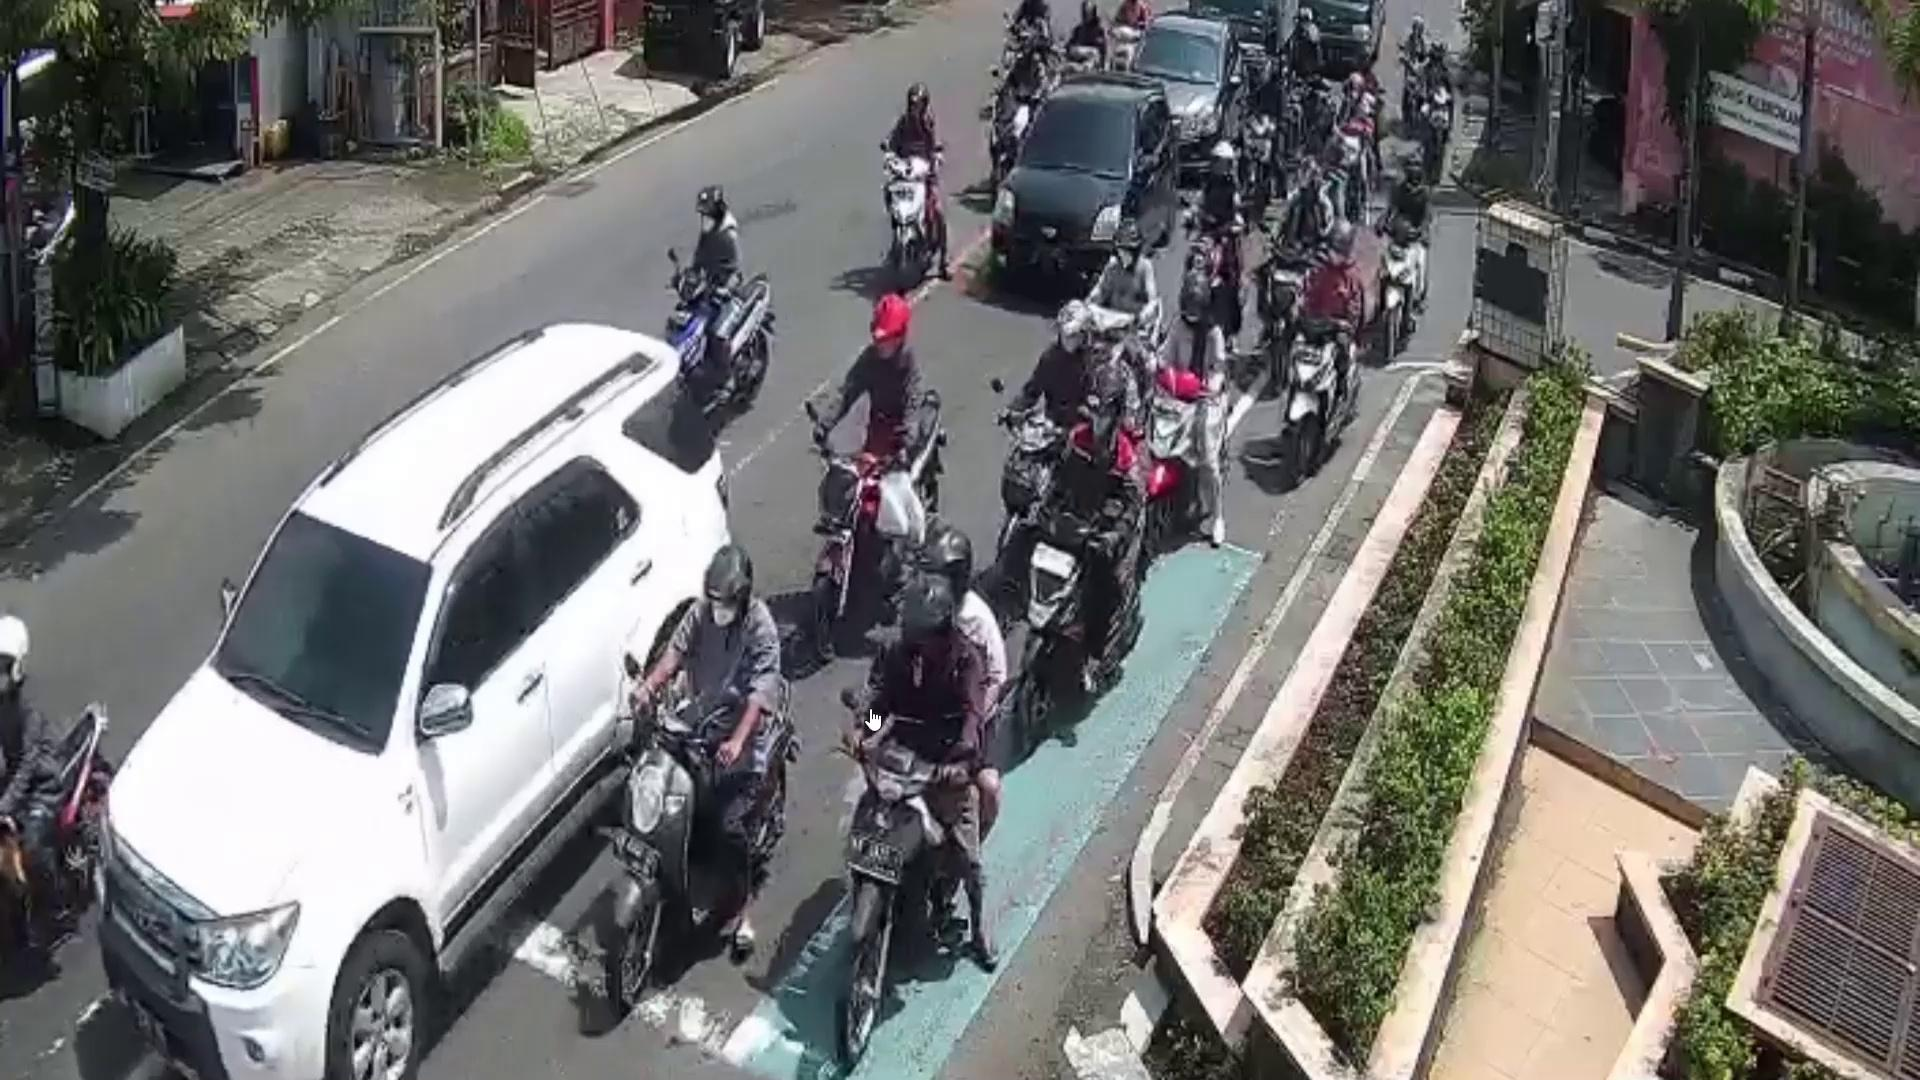car: (96, 320, 732, 1079), (990, 76, 1175, 293), (1133, 13, 1247, 178)
motorbike: (605, 670, 790, 1027), (811, 390, 944, 662), (839, 744, 951, 1063), (1021, 508, 1089, 731), (674, 266, 770, 406), (1146, 356, 1204, 545), (1287, 316, 1345, 487), (877, 152, 938, 282), (1381, 219, 1424, 367)
